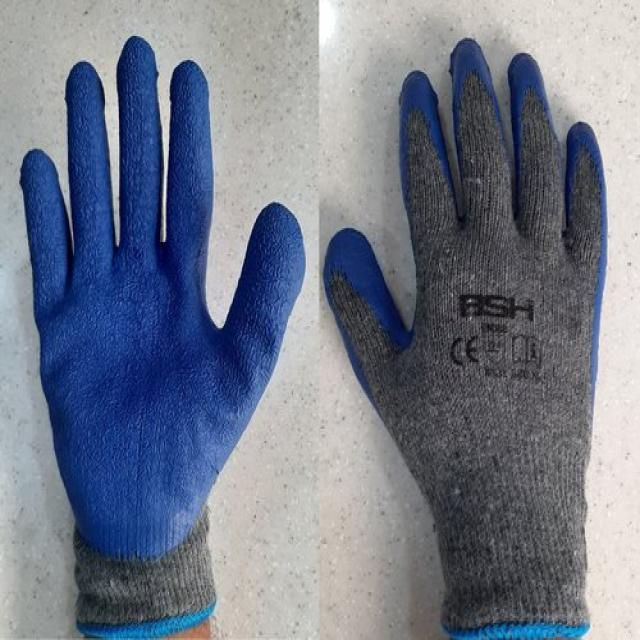gloves: (322, 31, 610, 638), (20, 32, 307, 640)
